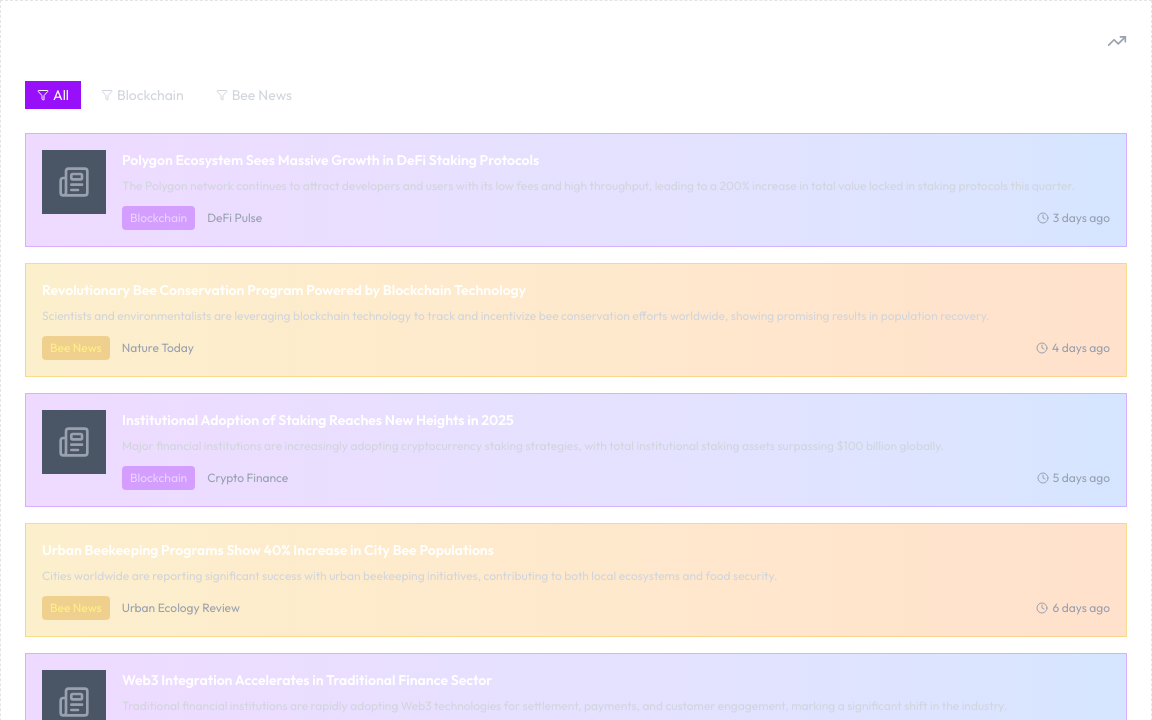
Test: NewsModule › filters articles by category
The image size is (1152, 720).
Expected: the heading "Polygon Ecosystem Sees Massive Growth" is shown, [122,151,539,169]
What coordinates should you click on to do the following:
click the button "Bee News"
I would click on:
 (254, 95)
Its box is [204,81,304,109].
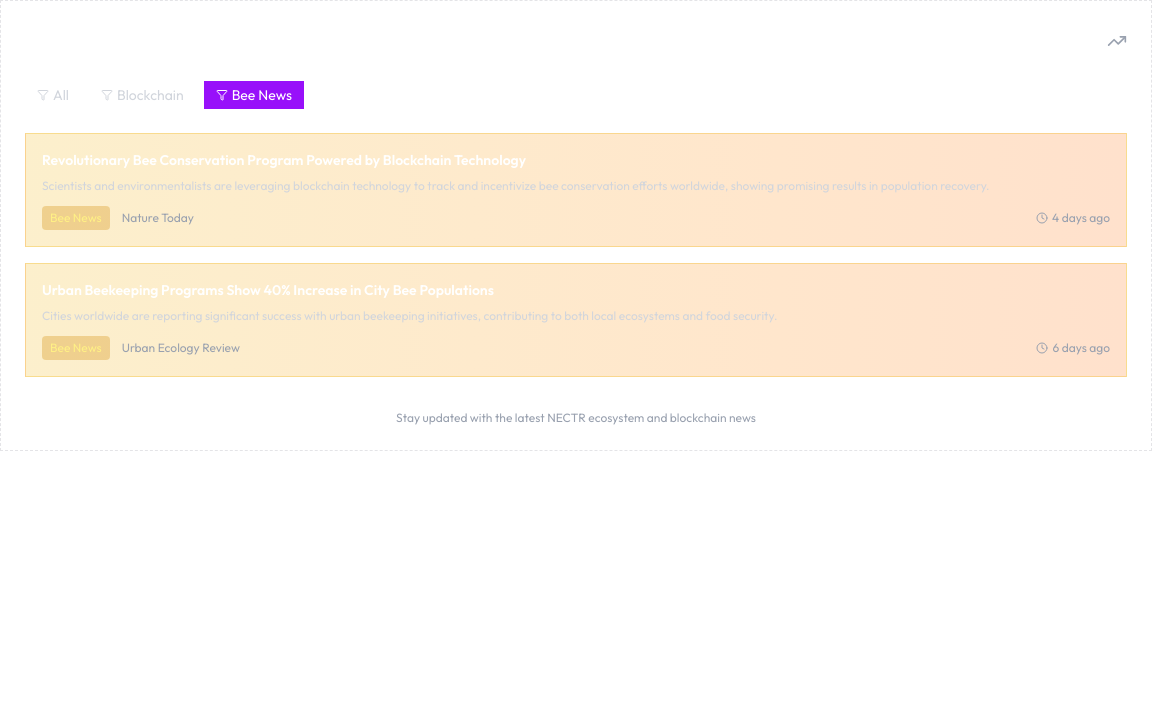
Expected: the heading "Revolutionary Bee Conservation" is shown, [42,151,526,169]
Expected: the heading "Polygon Ecosystem Sees Massive Growth" is gone
